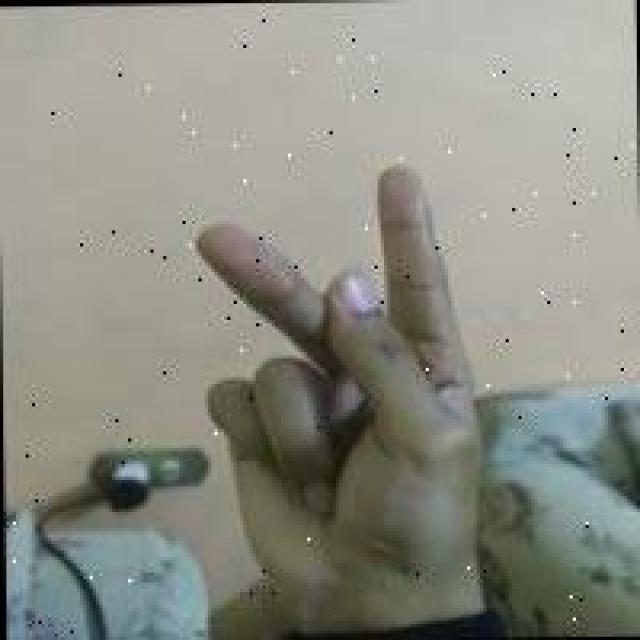K: (171, 139, 504, 632)
